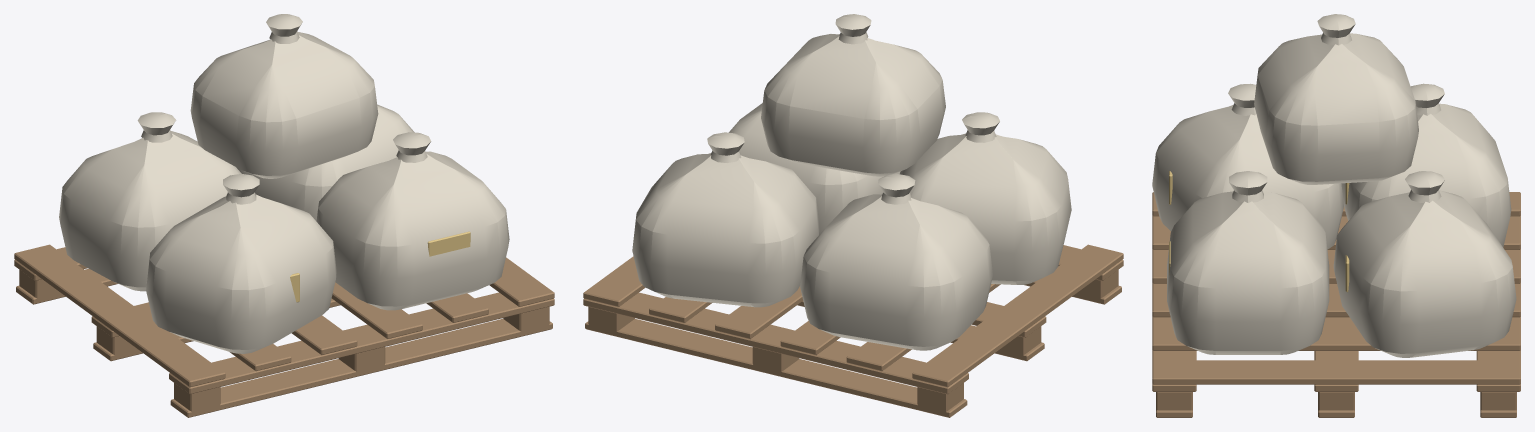
The model's file is bar-pub-and-brewery-taproom-hop-sack-pallet-38331700__18403.glb.
3 views of the same model, side by side, from view 1: azimuth 30°, elevation 25°; view 2: azimuth 150°, elevation 25°; view 3: azimuth 270°, elevation 25° (orthographic). The views are drawn at different scales.
Visible parts, largest first — view 1: hop-sack-pallet; view 2: hop-sack-pallet; view 3: hop-sack-pallet.
Part boxes in pixels (x1,y1,x2,y2): hop-sack-pallet: (14, 14, 554, 417); hop-sack-pallet: (583, 14, 1123, 417); hop-sack-pallet: (1152, 14, 1520, 417).
Size of the model in its own units: 1.2 by 0.918 by 1.
